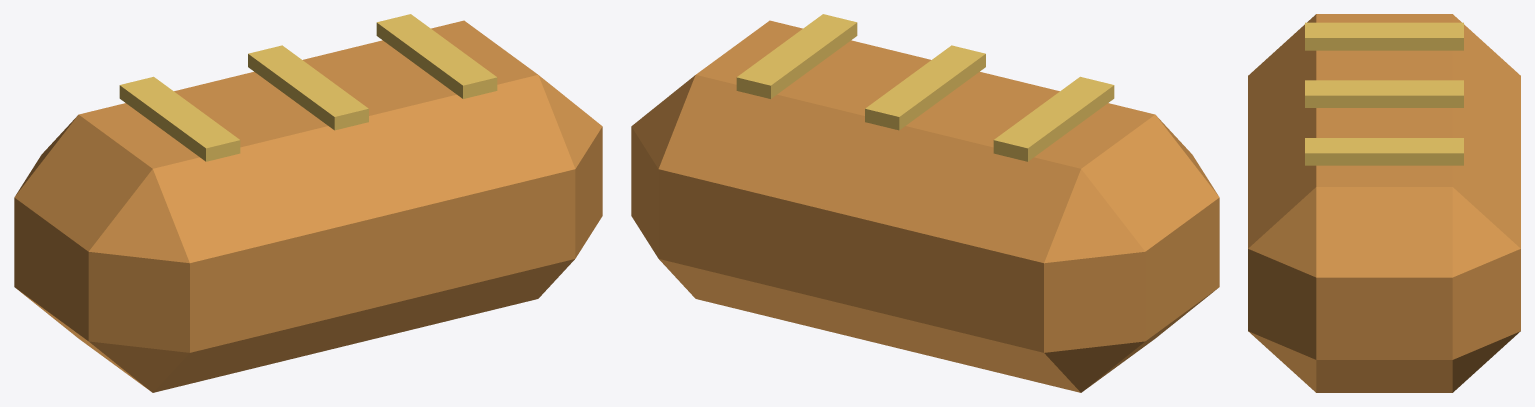
Rendered from bread.glb.
3 renders of one model, left to right at view 1: azimuth 30°, elevation 25°; view 2: azimuth 150°, elevation 25°; view 3: azimuth 270°, elevation 25°, orthographic. The views are drawn at different scales.
Visible parts, largest first — view 1: bread; view 2: bread; view 3: bread.
Boxes of the visible parts, x1,y1,x2,y2 form: bread: (14,14,602,392); bread: (631,14,1219,392); bread: (1248,14,1520,392).
Size of the model in its own units: 0.24 by 0.106 by 0.12.
Materials: 1 (1 with a texture image).
